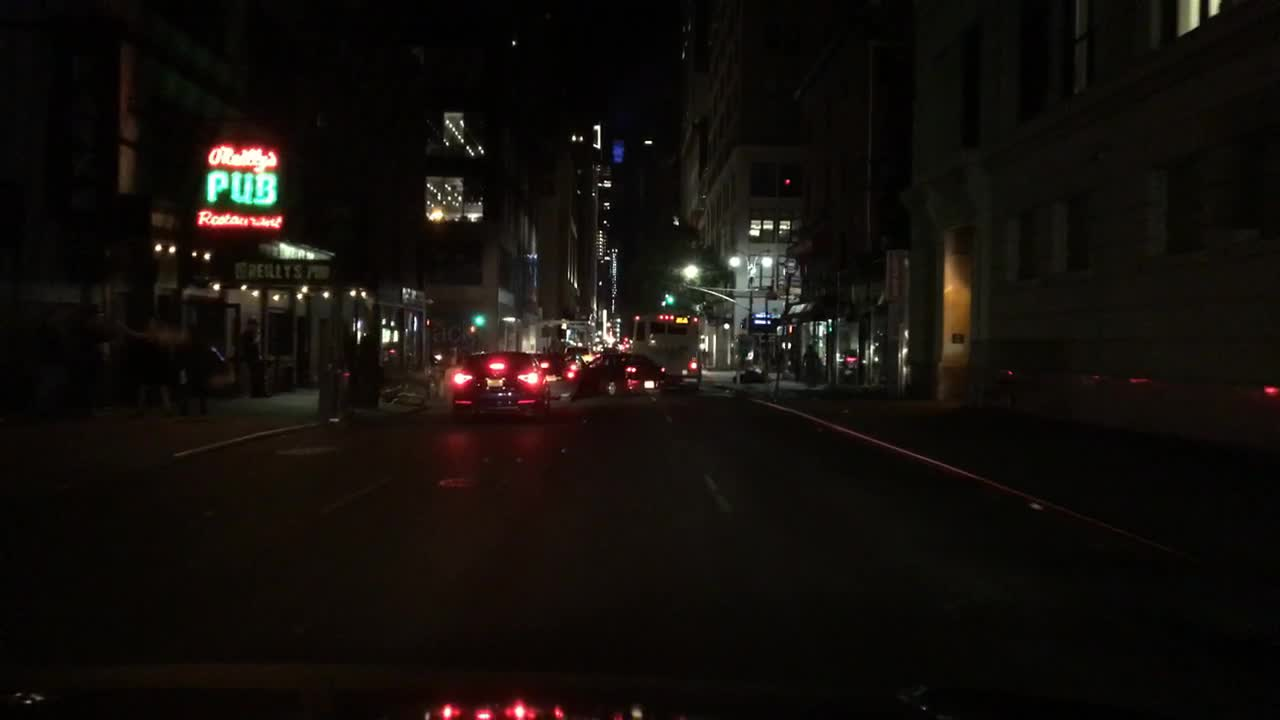bus: (630, 310, 703, 394)
car: (448, 349, 553, 430), (575, 347, 668, 398), (532, 349, 565, 381), (567, 344, 598, 367), (612, 340, 630, 358)
motor: (561, 363, 579, 384)
person: (128, 310, 181, 420), (68, 300, 117, 417), (182, 320, 226, 413), (237, 318, 270, 401), (800, 339, 826, 392), (783, 349, 797, 377), (750, 346, 764, 368)
rider: (565, 349, 582, 368)
traffic light: (469, 313, 487, 331), (665, 287, 677, 308)
